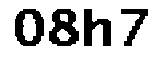0: (8, 2, 45, 49)
7: (119, 6, 151, 51)
8: (47, 7, 81, 52)
h: (82, 6, 115, 49)
